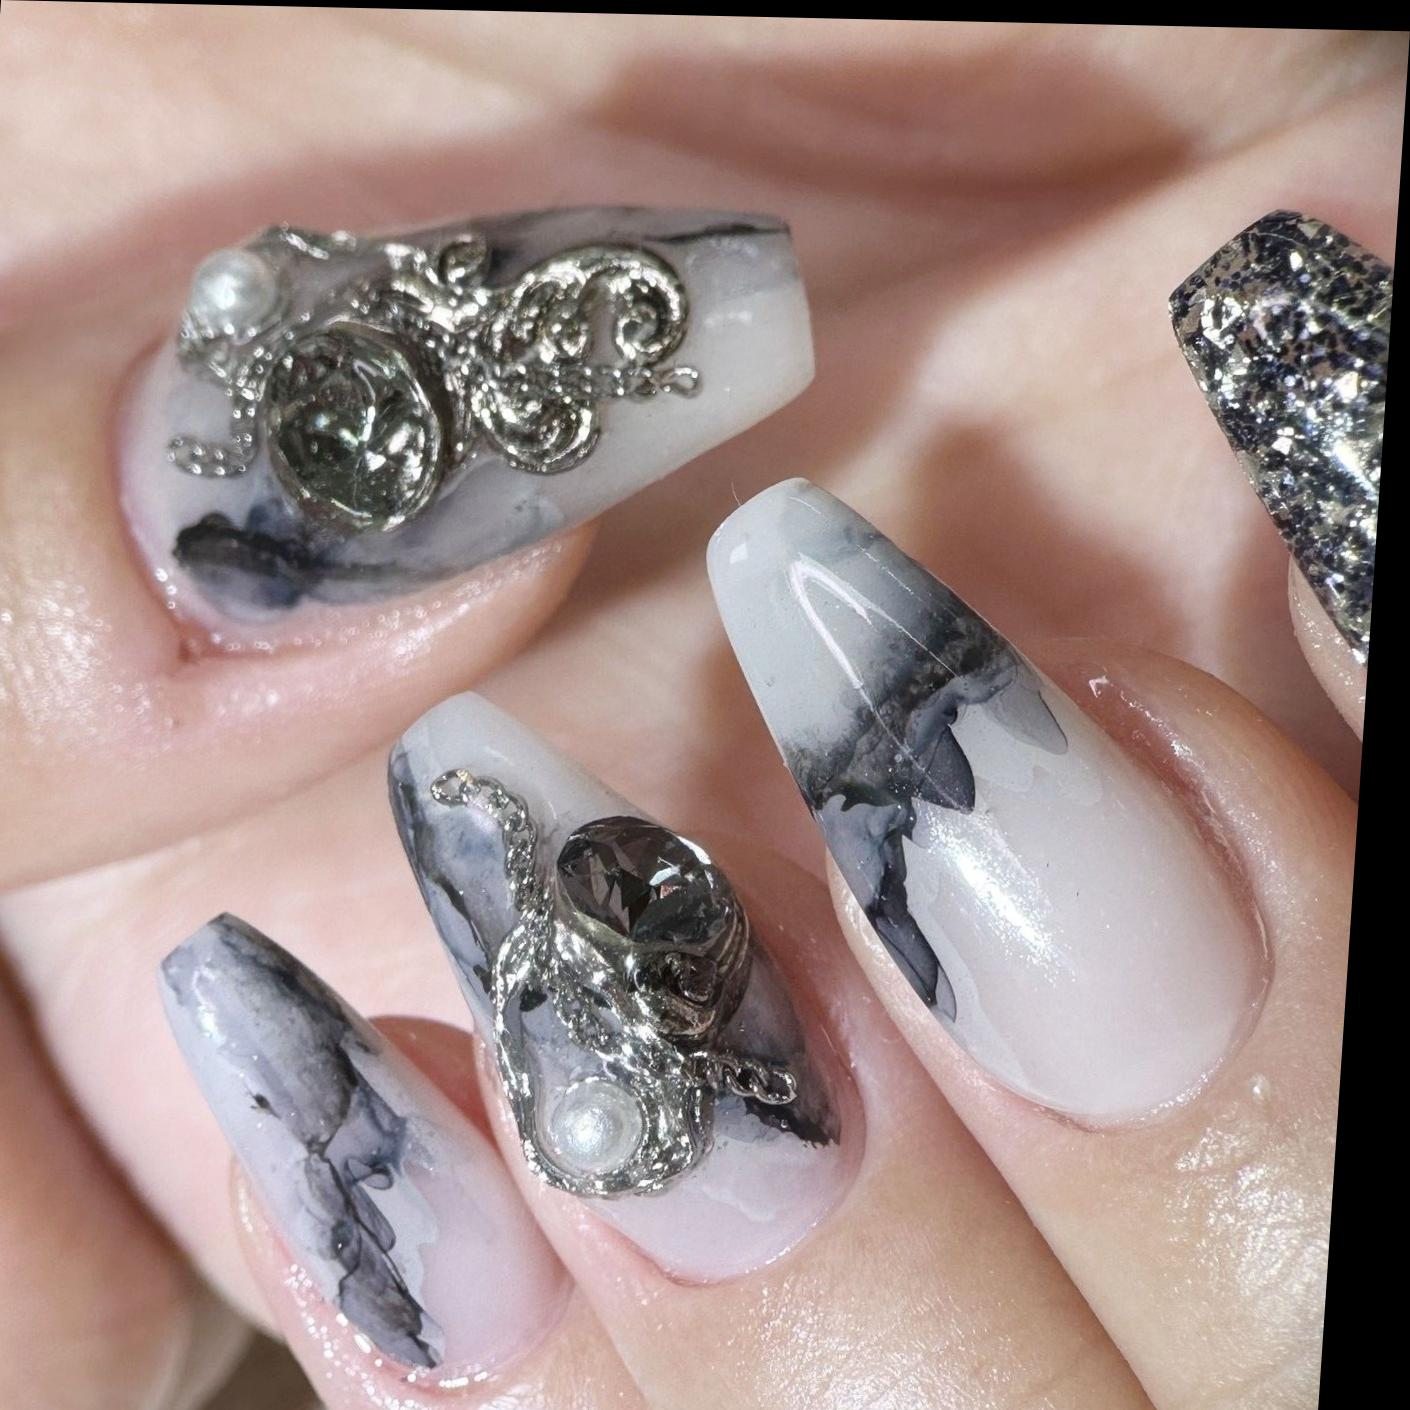nail: (664, 473, 1304, 1136), (347, 686, 894, 1290), (120, 205, 812, 648), (124, 909, 597, 1393), (1138, 205, 1398, 682)
